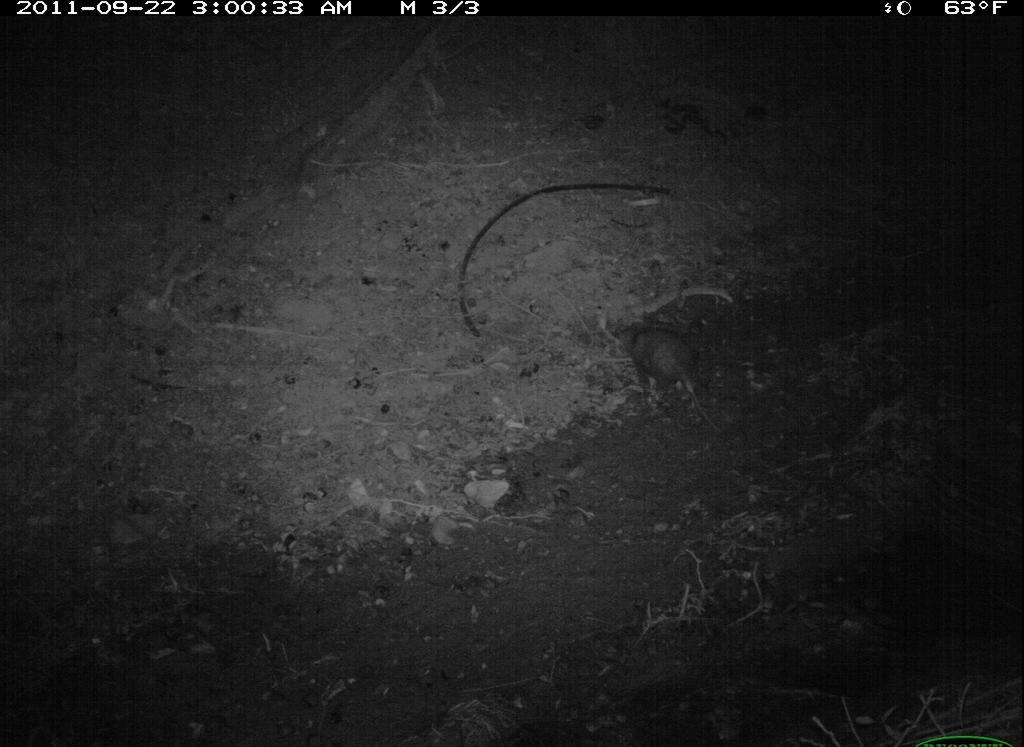opossum: (609, 304, 722, 449)
